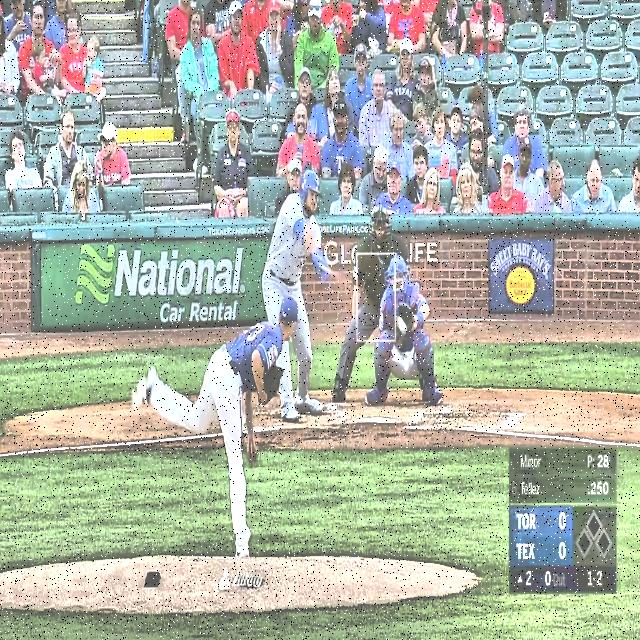baseball: (396, 314, 408, 337)
